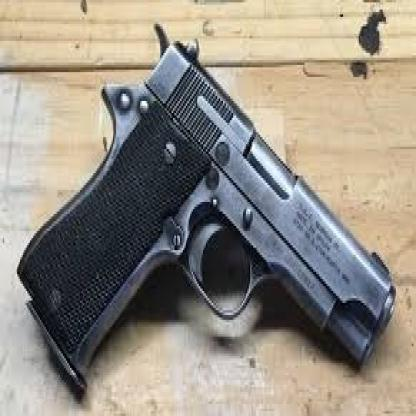Pistol: (16, 17, 396, 397)
